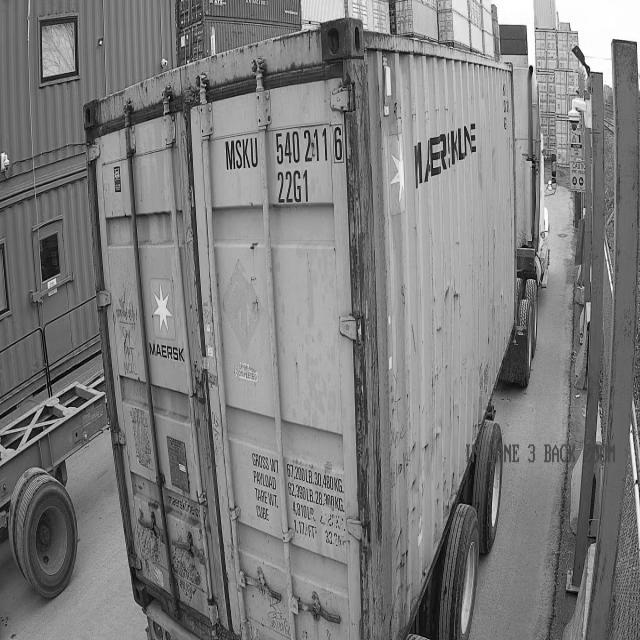container_company_logo: (409, 106, 486, 199), (143, 341, 188, 363)
container_number: (224, 119, 353, 225)
other_container_info: (251, 447, 358, 563)
truck_trailer: (0, 377, 106, 597)
truck_with_container: (83, 19, 549, 639)
